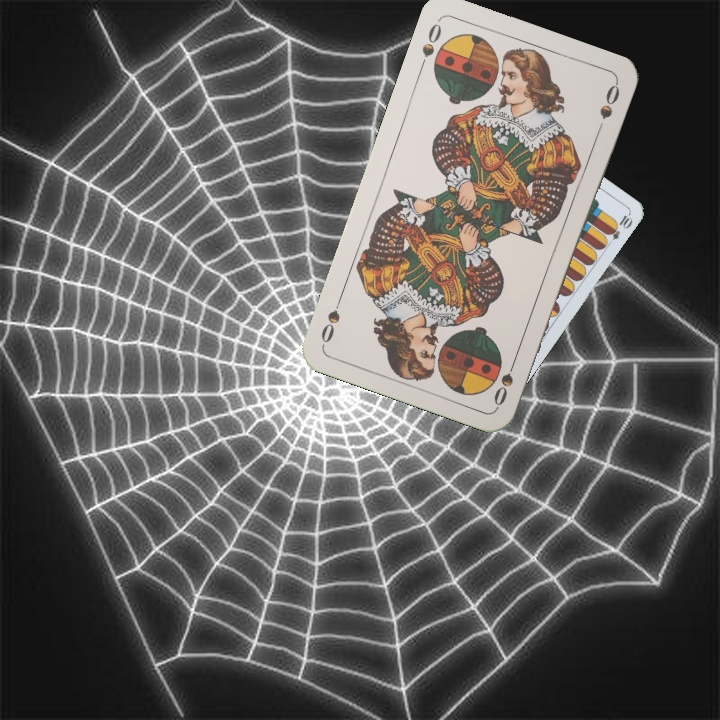SO: (489, 352, 520, 409), (415, 16, 444, 73)
